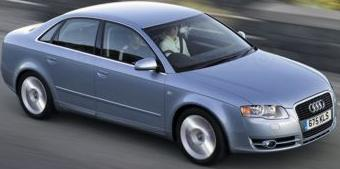front_view: (237, 76, 339, 155)
headlight: (238, 101, 290, 124)
side_glass: (44, 17, 156, 70)
